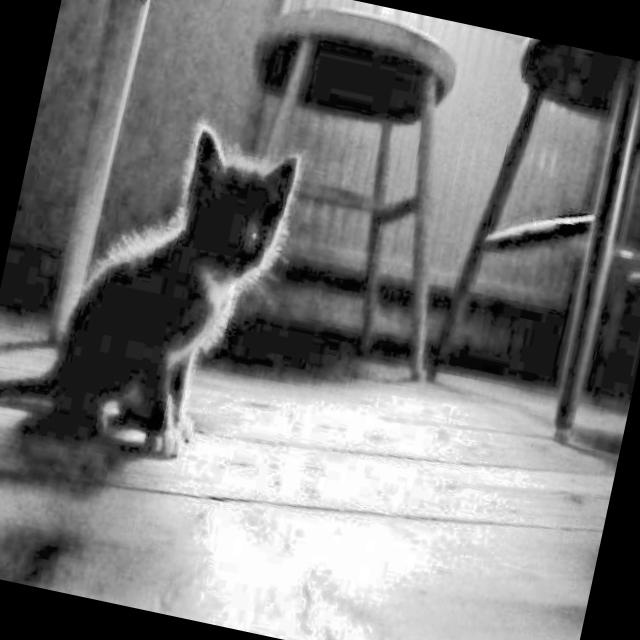Cat: (0, 83, 309, 498)
